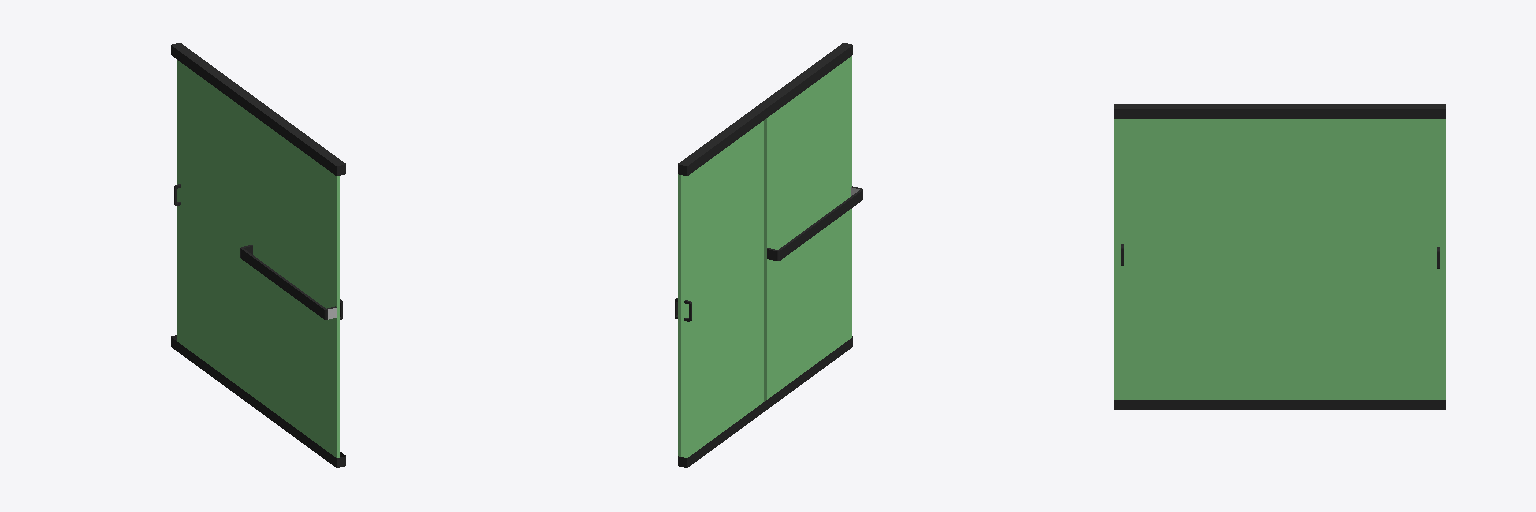
File: shower-door.obj
3 renders of one model, left to right at view 1: azimuth 30°, elevation 25°; view 2: azimuth 150°, elevation 25°; view 3: azimuth 270°, elevation 25°, orthographic.
Parts seen in each view (by area): view 1: Group_001; view 2: Group_001; view 3: Group_001.
Boxes of the visible parts, x1,y1,x2,y2 form: Group_001: [171, 43, 345, 467]; Group_001: [678, 43, 862, 467]; Group_001: [1114, 104, 1445, 409].
Bounding box in the file's own units: 5.68 × 60.33 × 60.25.